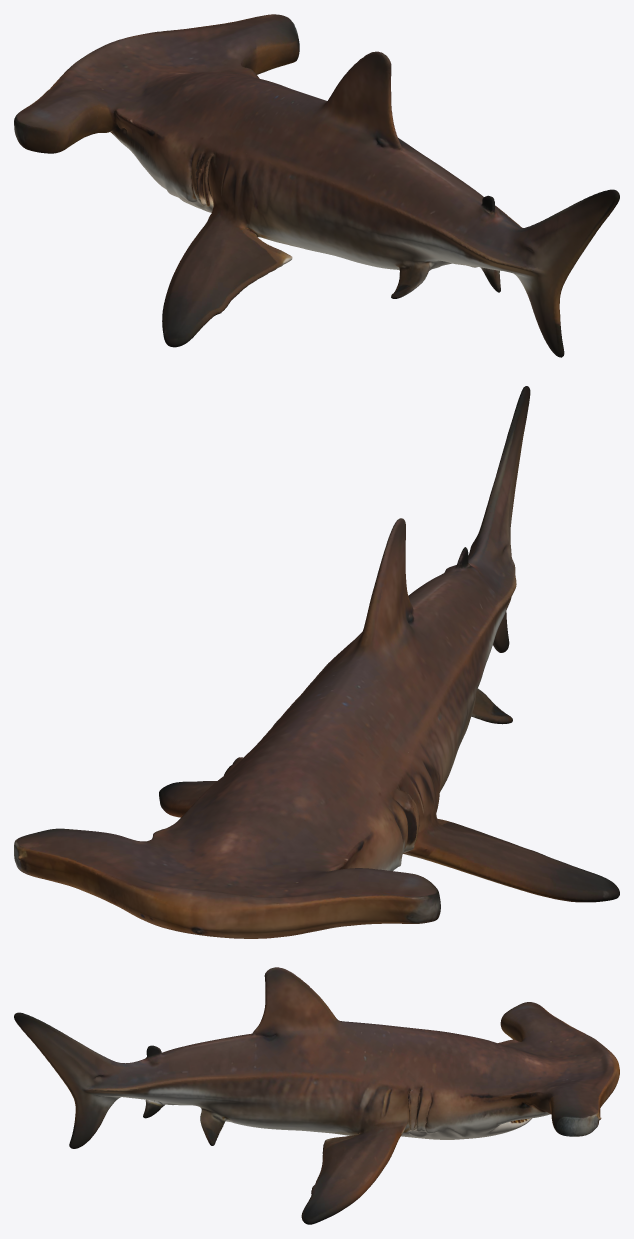
The model's file is real_hammer_b.glb.
3 views of the same model, one above another, from view 1: azimuth 30°, elevation 25°; view 2: azimuth 150°, elevation 25°; view 3: azimuth 270°, elevation 25° (orthographic). The views are drawn at different scales.
Parts seen in each view (by area): view 1: tripo_node_3177d26a-1f30-4ce4-9b08-1722185b36c2; view 2: tripo_node_3177d26a-1f30-4ce4-9b08-1722185b36c2; view 3: tripo_node_3177d26a-1f30-4ce4-9b08-1722185b36c2.
Boxes of the visible parts, <box> form: tripo_node_3177d26a-1f30-4ce4-9b08-1722185b36c2: <box>14,14,619,357</box>; tripo_node_3177d26a-1f30-4ce4-9b08-1722185b36c2: <box>14,386,619,938</box>; tripo_node_3177d26a-1f30-4ce4-9b08-1722185b36c2: <box>14,967,619,1224</box>.
Bounding box in the file's own units: 0.5404 × 0.3542 × 1.
Materials: 1 (1 with a texture image).
